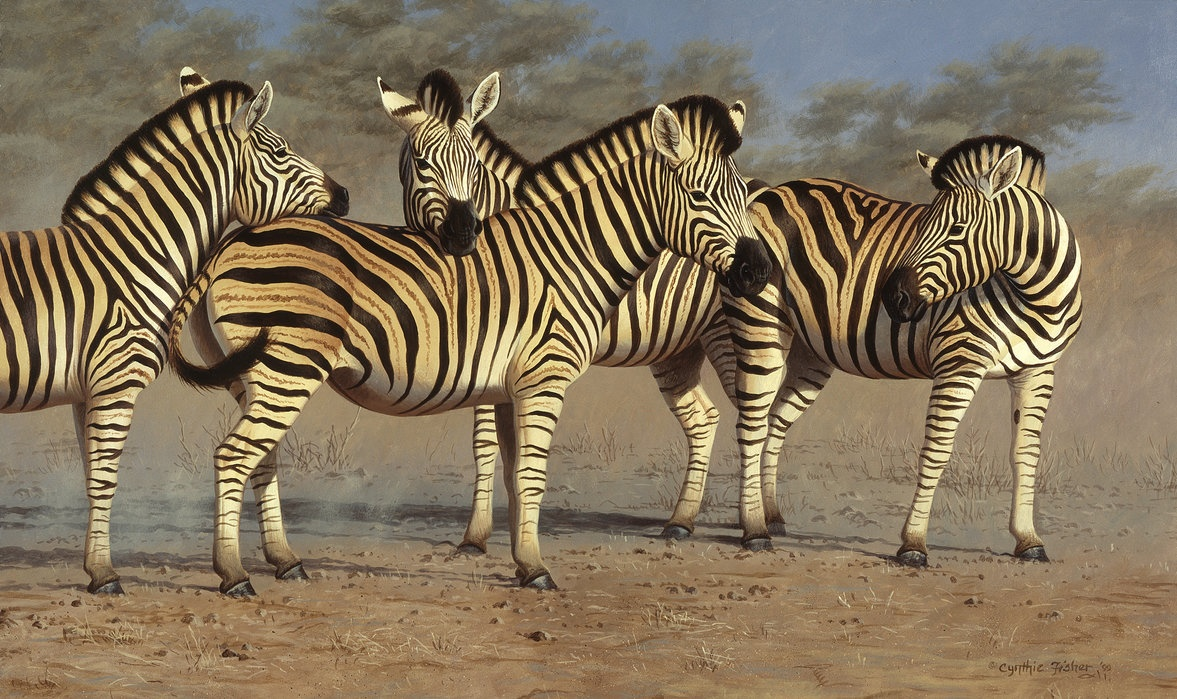zebra: (168, 96, 775, 608), (5, 68, 352, 603), (728, 132, 1086, 566)
